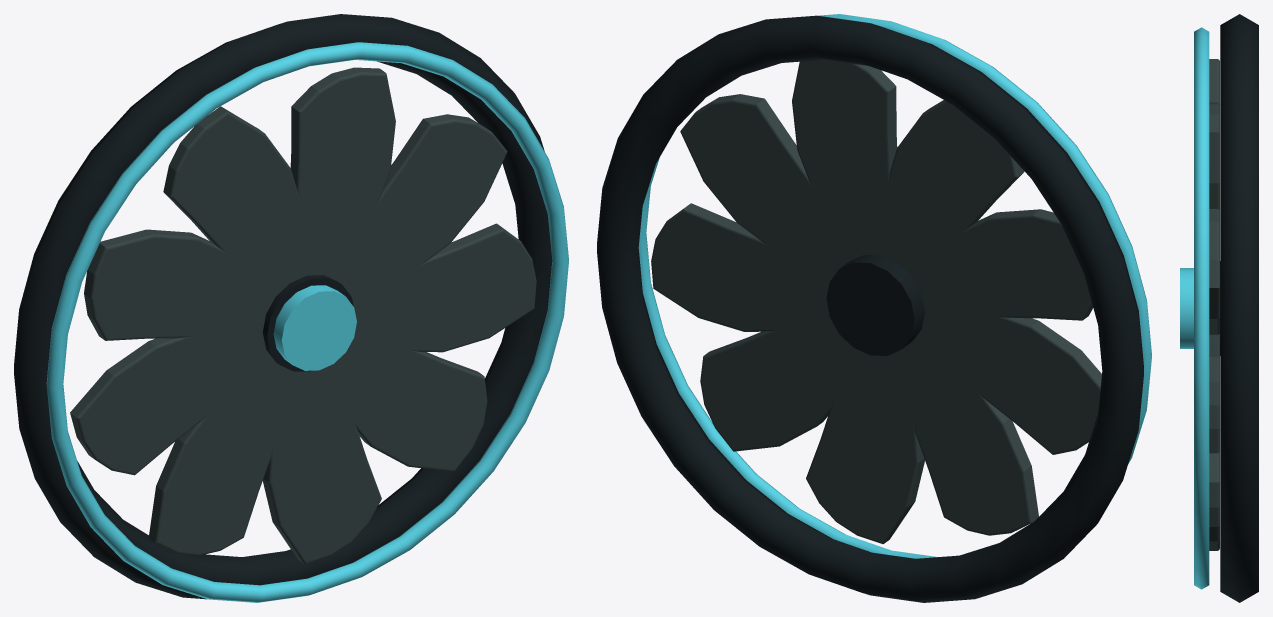
Rendered from gpu-fan-performance.glb.
The picture shows the model from 3 angles, left to right: view 1: azimuth 30°, elevation 25°; view 2: azimuth 150°, elevation 25°; view 3: azimuth 270°, elevation 25°; orthographic projection. The views are drawn at different scales.
Visible parts, largest first — view 1: gpu-fan-rotor, gpu-fan-performance; view 2: gpu-fan-rotor, gpu-fan-performance; view 3: gpu-fan-performance, gpu-fan-rotor.
Boxes of the visible parts, bbox=[...] form: gpu-fan-rotor: bbox=[70, 67, 536, 564]; gpu-fan-performance: bbox=[14, 14, 568, 602]; gpu-fan-rotor: bbox=[651, 60, 1101, 543]; gpu-fan-performance: bbox=[597, 14, 1151, 602]; gpu-fan-performance: bbox=[1194, 14, 1258, 602]; gpu-fan-rotor: bbox=[1180, 59, 1220, 550].
Size of the model in its own units: 0.93 by 0.93 by 0.1243.
